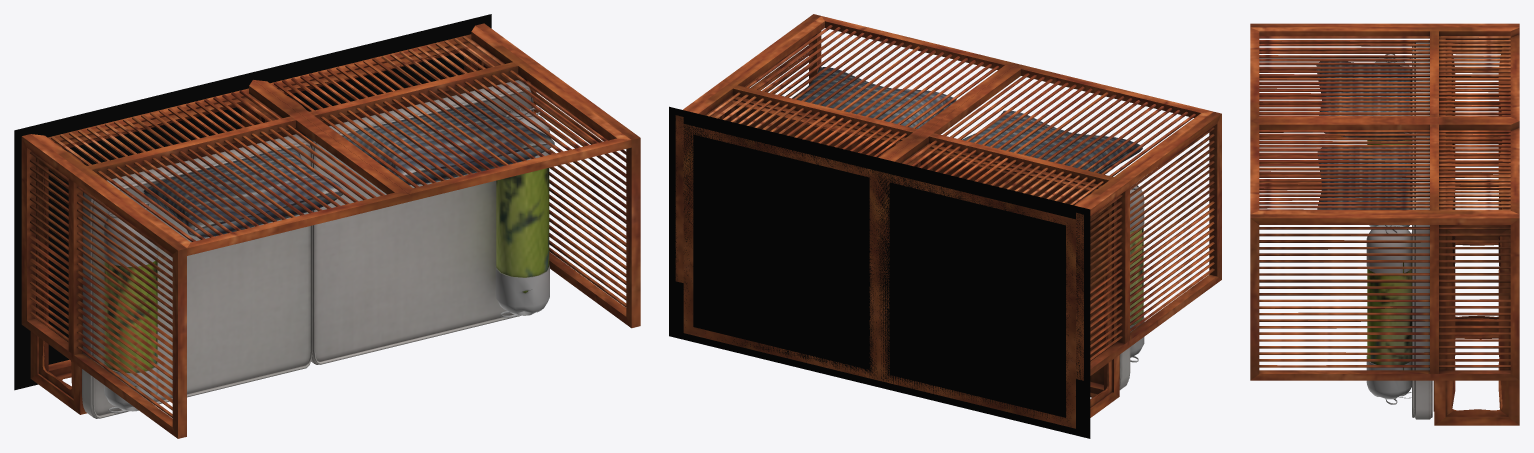
The model's file is raw_model.glb.
3 renders of one model, left to right at view 1: azimuth 30°, elevation 25°; view 2: azimuth 150°, elevation 25°; view 3: azimuth 270°, elevation 25°, orthographic. The views are drawn at different scales.
Visible parts, largest first — view 1: raw_model.016; view 2: raw_model.016; view 3: raw_model.016.
Part boxes in pixels (bbox=[...]): raw_model.016: bbox=[14, 14, 640, 438]; raw_model.016: bbox=[669, 14, 1221, 438]; raw_model.016: bbox=[1250, 23, 1519, 425].
Bounding box in the file's own units: 2.11 × 1.1 × 1.2.
1 material, 1 textured.
